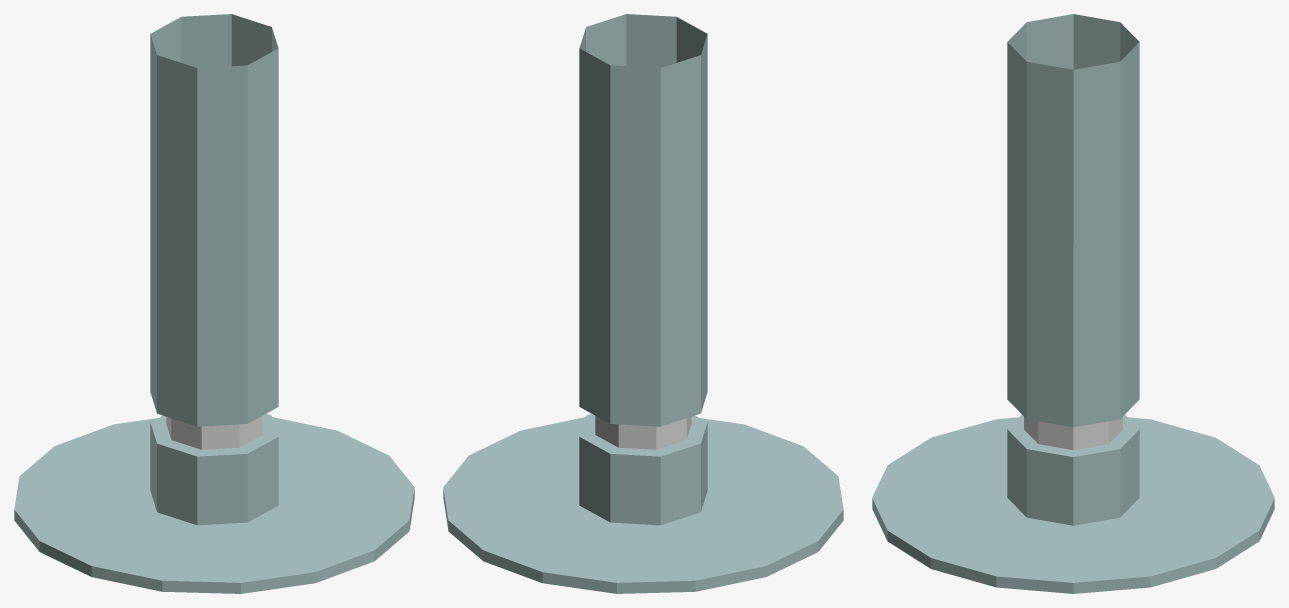
The model's file is TurretBase.fbx.
3 views of the same model, side by side, from view 1: azimuth 30°, elevation 25°; view 2: azimuth 150°, elevation 25°; view 3: azimuth 270°, elevation 25° (orthographic).
Visible parts, largest first — view 1: TurretBase; view 2: TurretBase; view 3: TurretBase.
Part boxes in pixels (bbox=[...]): TurretBase: bbox=[14, 14, 414, 593]; TurretBase: bbox=[443, 14, 843, 593]; TurretBase: bbox=[872, 14, 1274, 593].
Size of the model in its own units: 73.67 by 94.27 by 73.67.
